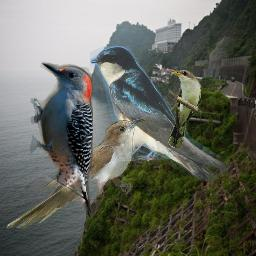Cuckoo: (6, 118, 145, 229), (168, 70, 202, 148)
Swallow: (90, 46, 229, 181)
Woodpecker: (30, 59, 93, 218)
